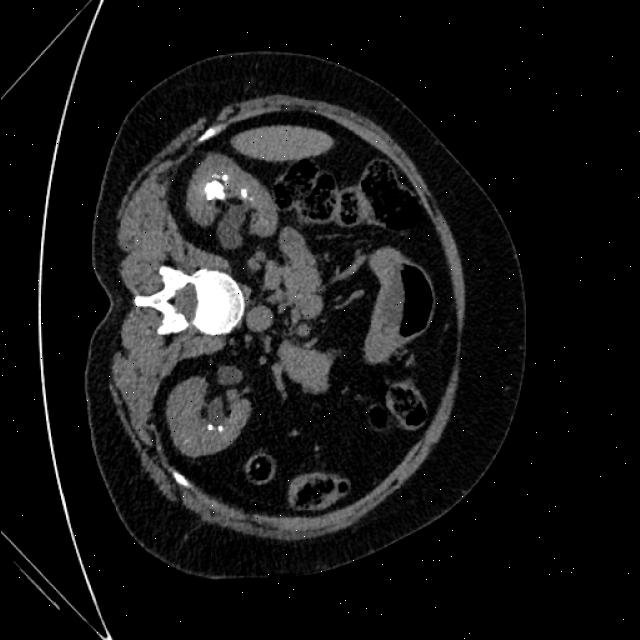kidneystone: (204, 180, 224, 200), (239, 189, 246, 198), (222, 174, 228, 181), (217, 425, 224, 430), (207, 424, 211, 430)
